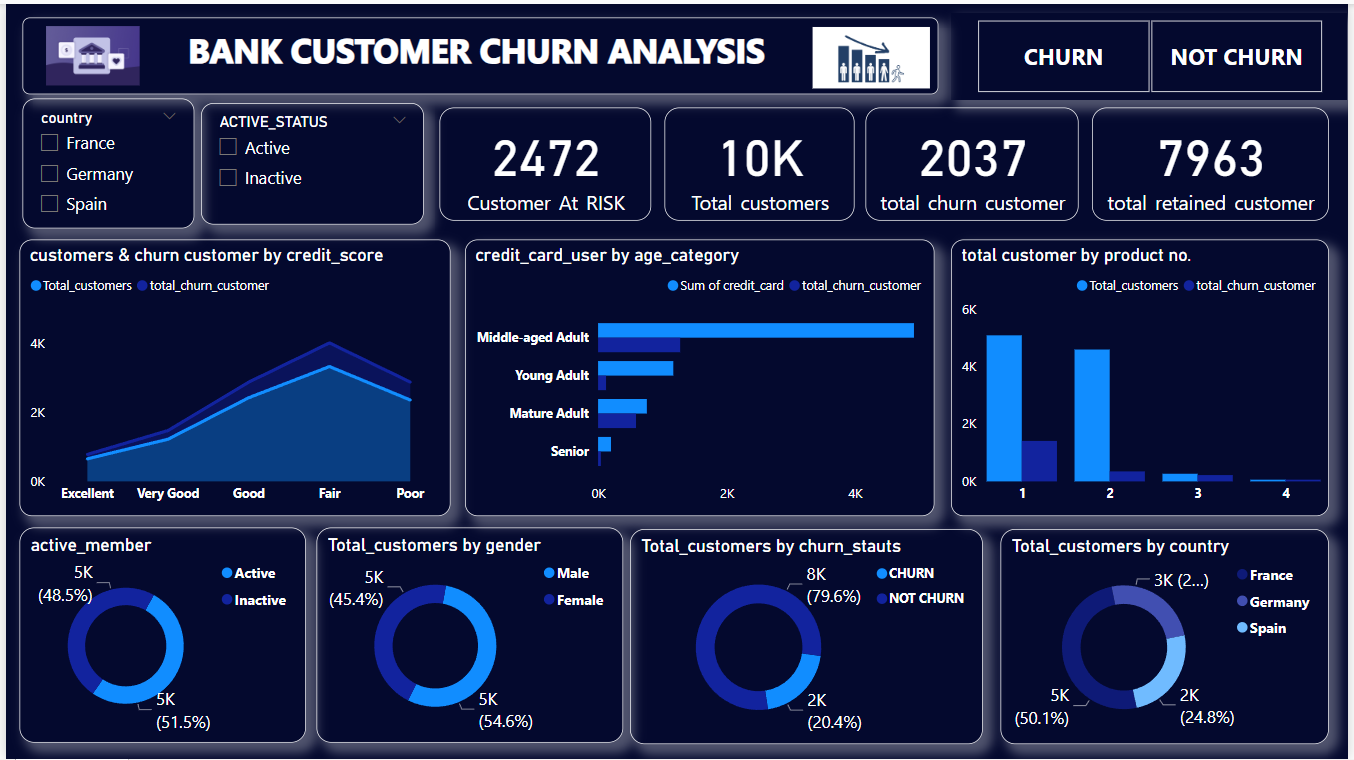

What the dashboard file says about the page in this screenshot:
{"tool":"powerbi","page":{"name":"Page 1","canvas":[1280,720],"ordinal":0},"visuals":[{"type":"card","fields":{"Values":["all measures.Total_customers"]},"box":[627.8,98.5,181.2,108.1],"z":0},{"type":"card","fields":{"Values":["all measures.total_churn_customer"]},"box":[820.1,98.5,203.4,108.1],"z":1000},{"type":"card","fields":{"Values":["all measures.total_retained_customer"]},"box":[1036.3,98.5,225.7,108.1],"z":2000},{"type":"donutChart","fields":{"Y":["all measures.Total_customers"],"Category":["portfoli bank_customer_churn.churn_stauts"]},"box":[596,500.7,337,205],"z":4000},{"type":"donutChart","fields":{"Y":["all measures.Total_customers"],"Category":["portfoli bank_customer_churn.gender"]},"box":[295.6,499.1,292.5,205],"z":5000},{"type":"donutChart","fields":{"Y":["all measures.Total_customers"],"Category":["portfoli bank_customer_churn.country"]},"box":[948.9,500.7,313.1,205],"z":6000},{"type":"slicer","fields":{"Values":["portfoli bank_customer_churn.churn_stauts"]},"box":[901.2,7.9,378.3,82.6],"z":7000},{"type":"donutChart","title":" active_member","fields":{"Y":["all measures.Total_customers"],"Category":["portfoli bank_customer_churn.ACTIVE_STATUS"]},"box":[12.7,499.1,273.4,205],"z":8000},{"type":"textbox","box":[15.9,12.7,874.2,73.1],"z":9000},{"type":"clusteredBarChart","title":"credit_card_user by age_category","fields":{"Category":["portfoli bank_customer_churn.age_category"],"Y":["Sum(portfoli bank_customer_churn.credit_card)","all measures.total_churn_customer"]},"box":[438.7,224.1,448.2,263.8],"z":10000},{"type":"card","fields":{"Values":["all measures.retain"]},"box":[413.2,98.5,201.9,108.1],"z":11000},{"type":"stackedAreaChart","title":"customers  & churn customer  by credit_score","fields":{"Category":["portfoli bank_customer_churn.credit_score_category"],"Y":["all measures.Total_customers","all measures.total_churn_customer"]},"box":[12.7,224.1,411.7,263.8],"z":12000},{"type":"clusteredColumnChart","title":"total customer by product no.","fields":{"Category":["portfoli bank_customer_churn.products_number"],"Y":["all measures.Total_customers","all measures.total_churn_customer"]},"box":[901.2,224.1,360.8,263.8],"z":12001},{"type":"slicer","fields":{"Values":["portfoli bank_customer_churn.country"]},"box":[15.9,90.6,163.7,124],"z":12002},{"type":"slicer","fields":{"Values":["portfoli bank_customer_churn.ACTIVE_STATUS"]},"box":[186,93.8,213,116],"z":12003},{"type":"image","box":[764.5,7.9,122.4,85.8],"z":12004},{"type":"image","box":[12.7,15.9,139.9,66.8],"z":12005}]}

Visuals, with their boxes in screenshot pixels (x1, y1, x2, y2), scaled from the page's 1280x720 canvas onto the 1354x760 screenshot:
card - all measures.Total_customers: region(664, 104, 856, 218)
card - all measures.total_churn_customer: region(868, 104, 1083, 218)
card - all measures.total_retained_customer: region(1096, 104, 1335, 218)
donutChart - all measures.Total_customers x portfoli bank_customer_churn.churn_stauts: region(630, 529, 987, 745)
donutChart - all measures.Total_customers x portfoli bank_customer_churn.gender: region(313, 527, 622, 743)
donutChart - all measures.Total_customers x portfoli bank_customer_churn.country: region(1004, 529, 1335, 745)
slicer - portfoli bank_customer_churn.churn_stauts: region(953, 8, 1353, 96)
" active_member" donutChart: region(13, 527, 303, 743)
textbox: region(17, 13, 942, 91)
"credit_card_user by age_category" clusteredBarChart: region(464, 237, 938, 515)
card - all measures.retain: region(437, 104, 651, 218)
"customers  & churn customer  by credit_score" stackedAreaChart: region(13, 237, 449, 515)
"total customer by product no." clusteredColumnChart: region(953, 237, 1335, 515)
slicer - portfoli bank_customer_churn.country: region(17, 96, 190, 227)
slicer - portfoli bank_customer_churn.ACTIVE_STATUS: region(197, 99, 422, 221)
image: region(809, 8, 938, 99)
image: region(13, 17, 161, 87)
